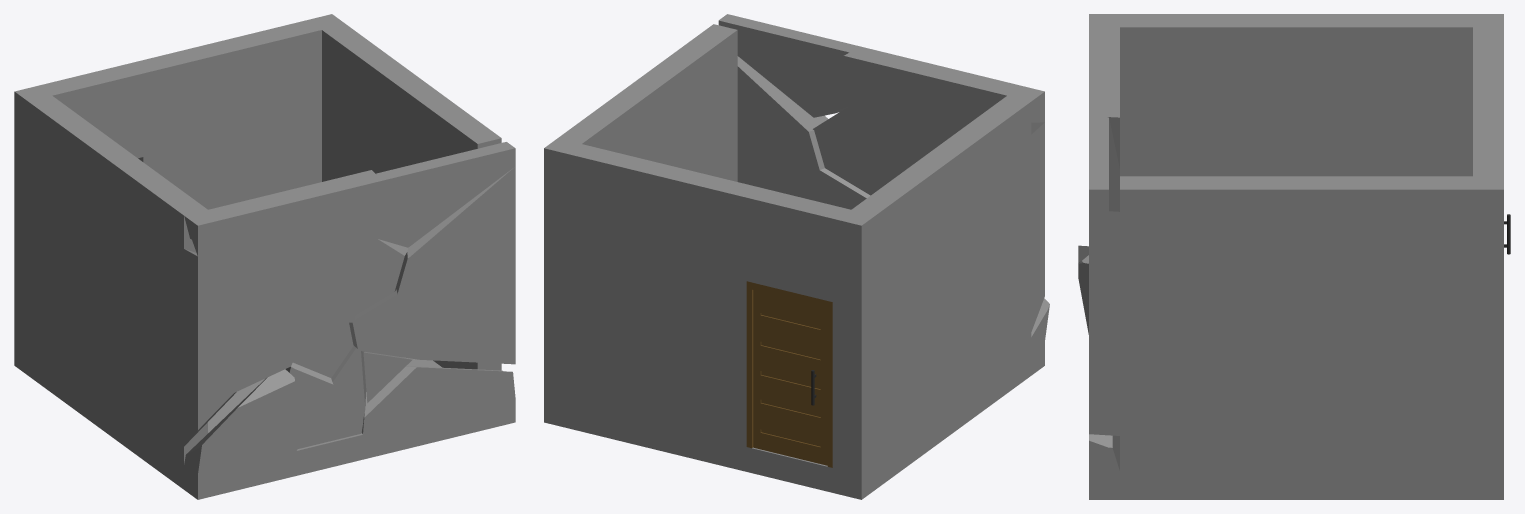
File: MSH_Room_SingleDoor_Front_Damaged_03.fbx
3 views of the same model, side by side, from view 1: azimuth 30°, elevation 25°; view 2: azimuth 150°, elevation 25°; view 3: azimuth 270°, elevation 25° (orthographic). The views are drawn at different scales.
Visible parts, largest first — view 1: MSH_Room_SingleDoor_Front_Damaged_03, MSH_Room_SingleDoor_Front012; view 2: MSH_Room_SingleDoor_Front_Damaged_03, MSH_Room_SingleDoor_Front012, MSH_DoorFrame_Single (×2); view 3: MSH_Room_SingleDoor_Front_Damaged_03, MSH_Room_SingleDoor_Front012.
Part boxes in pixels (<box>): MSH_Room_SingleDoor_Front_Damaged_03: <box>14,14,515,499</box>; MSH_Room_SingleDoor_Front012: <box>184,142,515,474</box>; MSH_Room_SingleDoor_Front_Damaged_03: <box>544,24,1044,499</box>; MSH_Room_SingleDoor_Front012: <box>718,14,1049,350</box>; MSH_DoorFrame_Single (×2): <box>746,281,832,467</box>; MSH_Room_SingleDoor_Front_Damaged_03: <box>1089,14,1503,499</box>; MSH_Room_SingleDoor_Front012: <box>1078,14,1119,471</box>.
Bounding box in the file's own units: 158 × 130 × 164.
